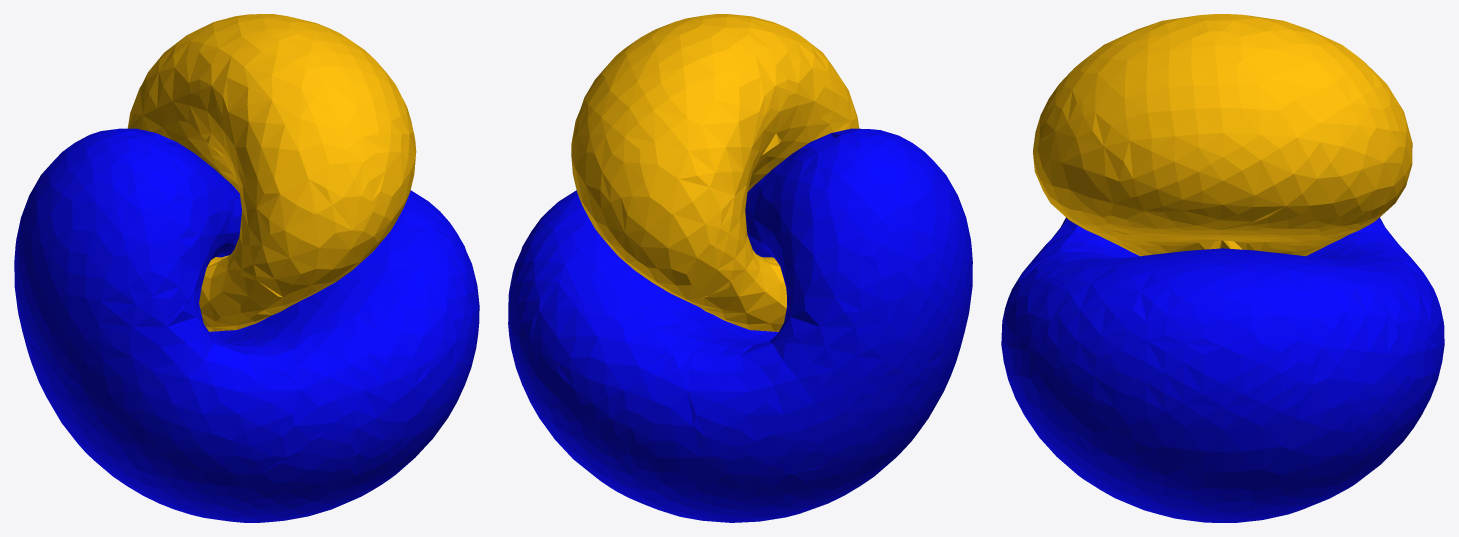
The picture shows the model from 3 angles, left to right: view 1: azimuth 30°, elevation 25°; view 2: azimuth 150°, elevation 25°; view 3: azimuth 270°, elevation 25°; orthographic projection. The views are drawn at different scales.
Bounding box in the file's own units: 21.55 × 22.91 × 18.84.
